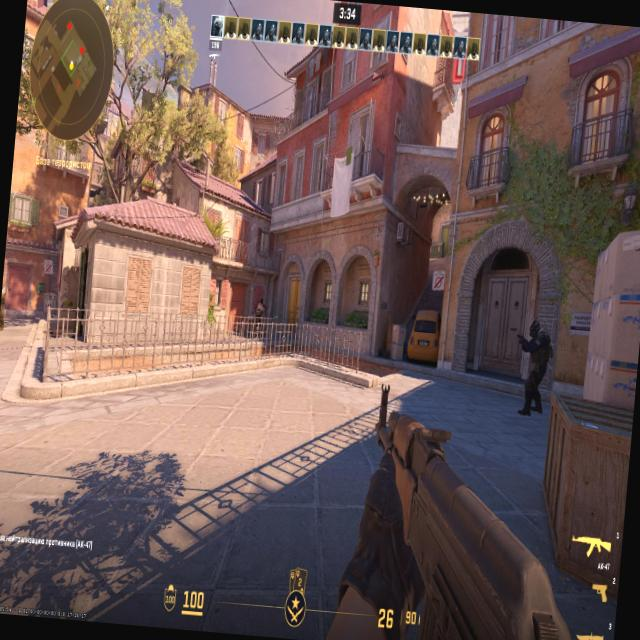CT: (527, 321, 547, 404)
CT_heat: (529, 325, 542, 348)
